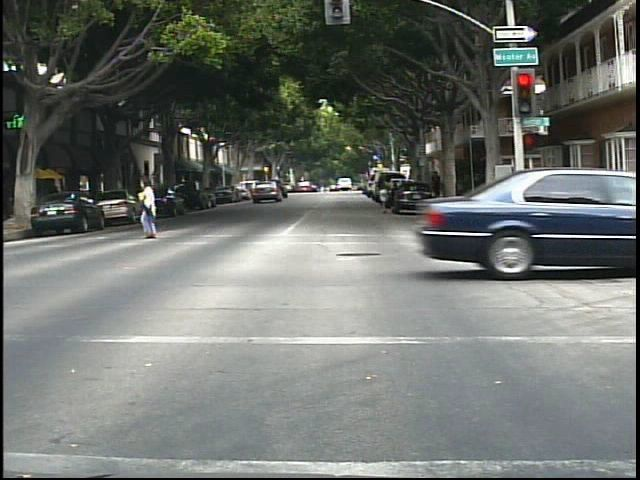person: (131, 173, 170, 242), (371, 172, 396, 217), (428, 165, 448, 203)
